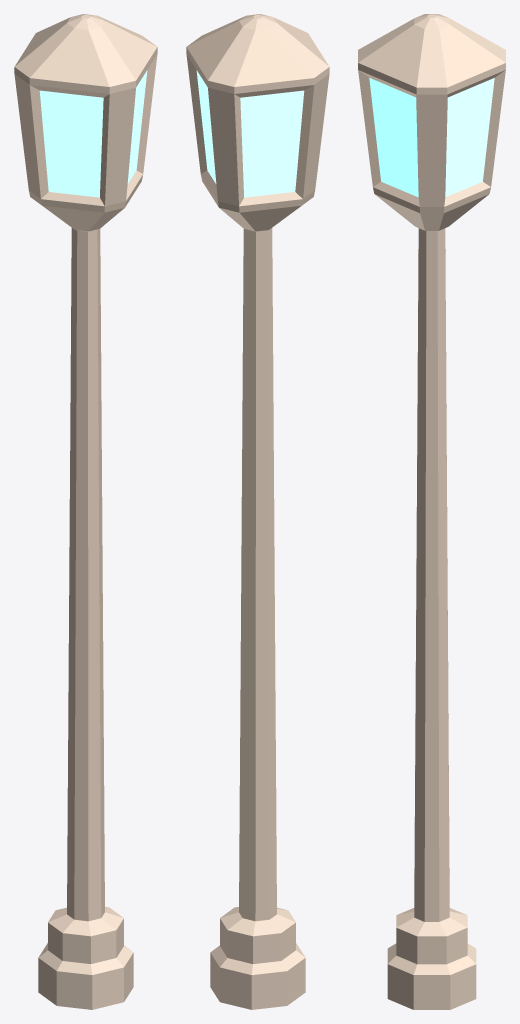
Rendered from Lamp_Ground.fbx.
3 views of the same model, side by side, from view 1: azimuth 30°, elevation 25°; view 2: azimuth 150°, elevation 25°; view 3: azimuth 270°, elevation 25° (orthographic).
Parts seen in each view (by area): view 1: Lamp_Ground_LOD0; view 2: Lamp_Ground_LOD0; view 3: Lamp_Ground_LOD0.
Part boxes in pixels (x1,y1,x2,y2): Lamp_Ground_LOD0: (14,14,157,1009); Lamp_Ground_LOD0: (186,14,329,1009); Lamp_Ground_LOD0: (358,14,505,1009).
Size of what is drawn, in the model's own units: 0.1921 by 1.4 by 0.1921.
